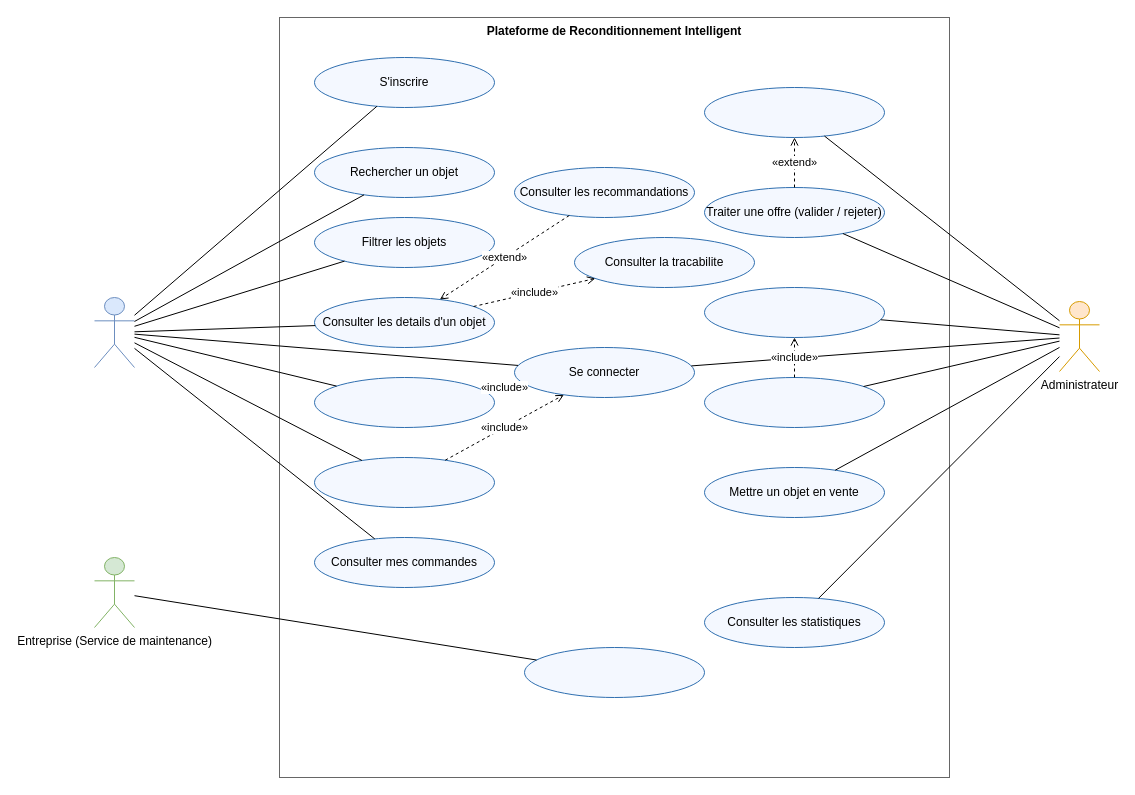
This 1135x795 diagram has some shape labels left out. The box of each missing label's shape, as (x1, y1, x2, y2) in pixels:
Acheter un objet (simulation): (314, 456, 494, 508)
Client: (94, 296, 134, 368)
Consulter les offres: (704, 86, 884, 138)
Enregistrer un favori: (314, 376, 494, 428)
Gerer un composant: (704, 286, 884, 338)
Saisir la tracabilite: (704, 376, 884, 428)
Soumettre une offre: (524, 646, 704, 698)
